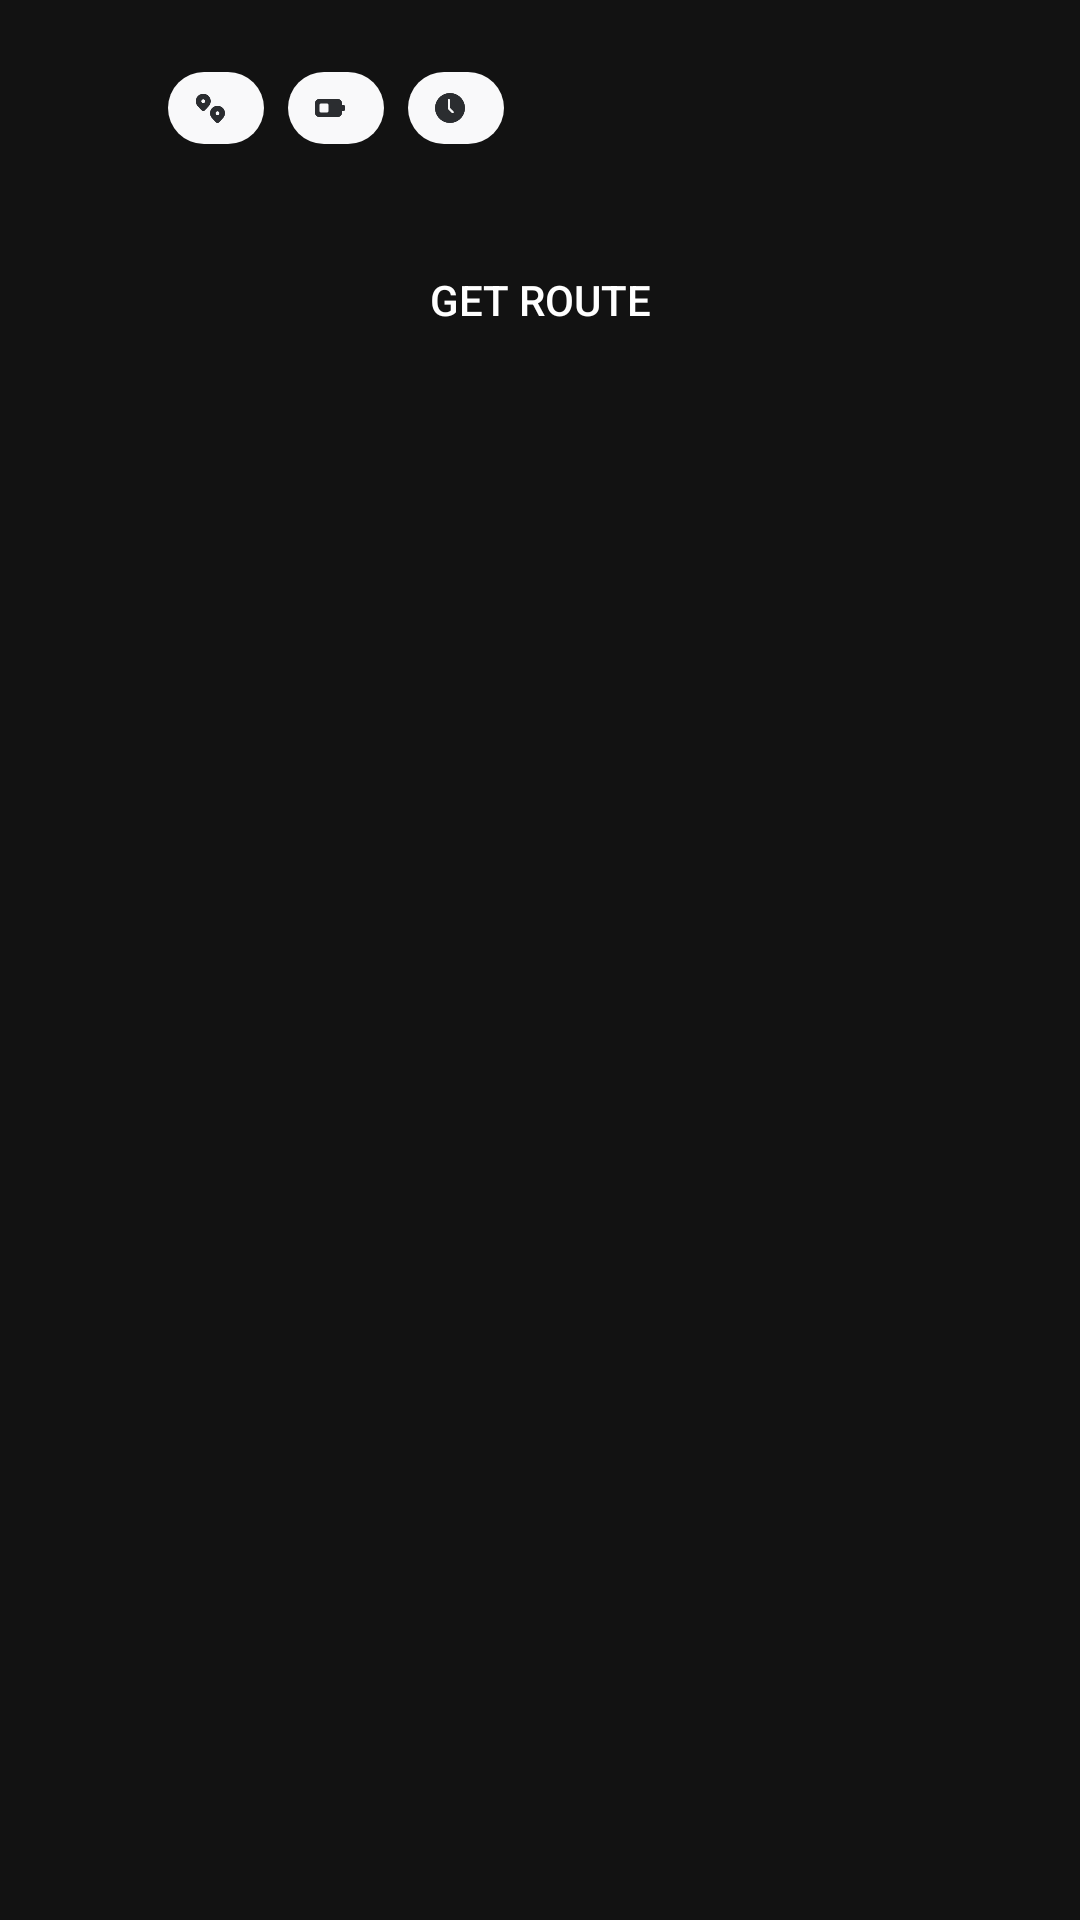

Icon bounding boxes for this 1080w x 1920h phone screenshot, format (x1, y1, x2, y2):
battery: (315, 99, 345, 117)
distance: (196, 94, 225, 123)
time: (435, 93, 465, 123)
